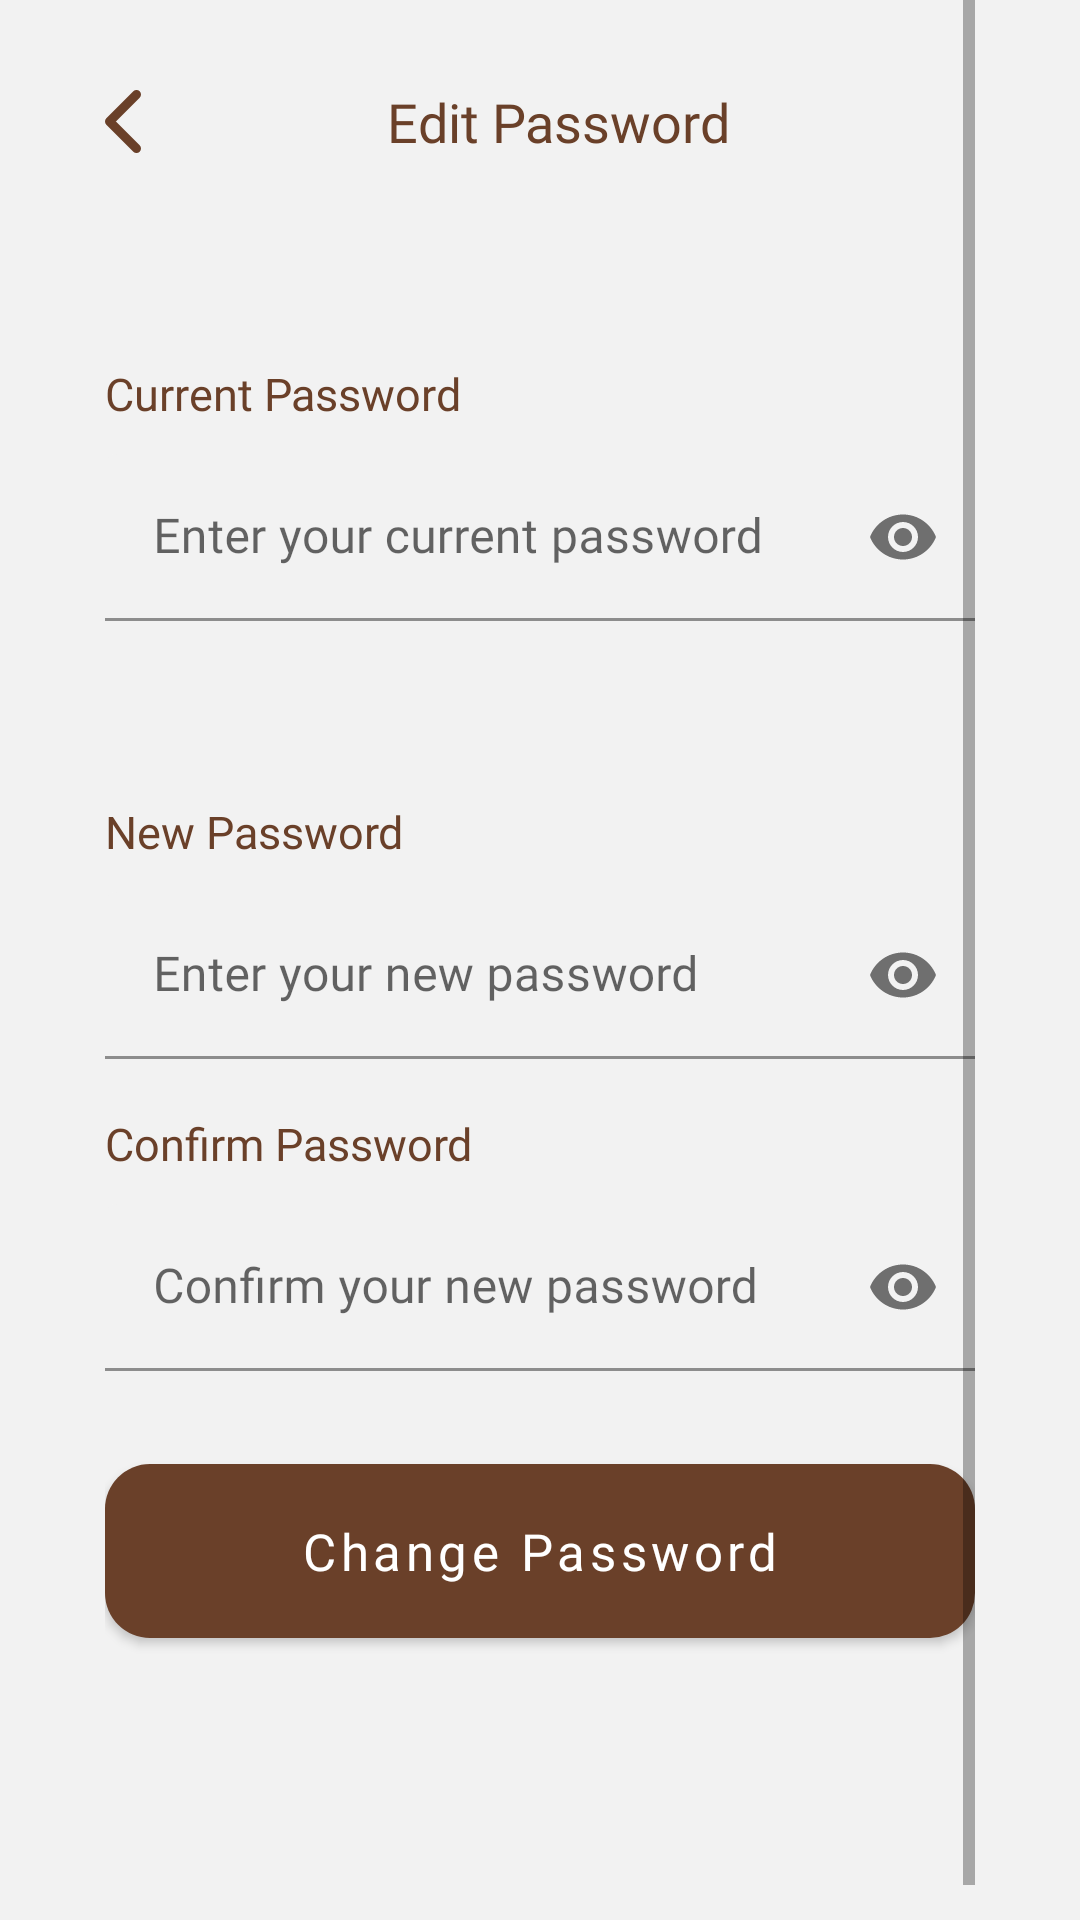

Where icons sit on this 1080x1920 app screen, as (x1, y1, x2, y2):
arrow left choco: (105, 90, 141, 153)
